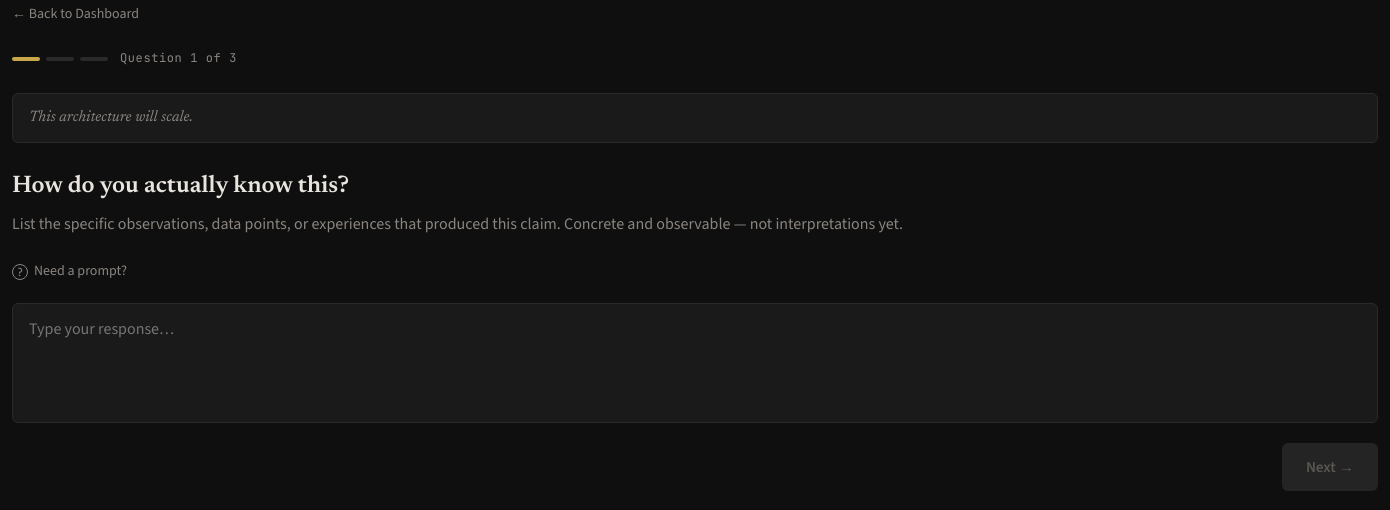
Scenario: PressureTest › "Back" on step 2 returns to step 1 with response preserved
Type "Some evidence." into the text box. click: coordinates (695, 363)
box: [12, 303, 1378, 423]
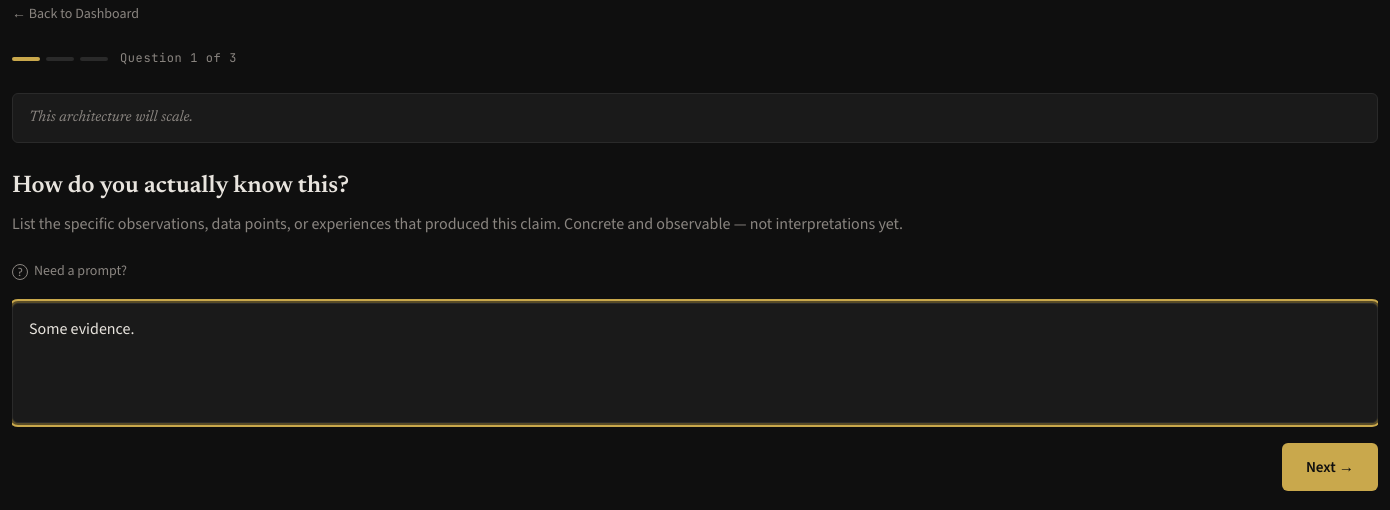
Click the button "Next →". click: coordinates (1330, 467)
box: [1282, 443, 1378, 491]
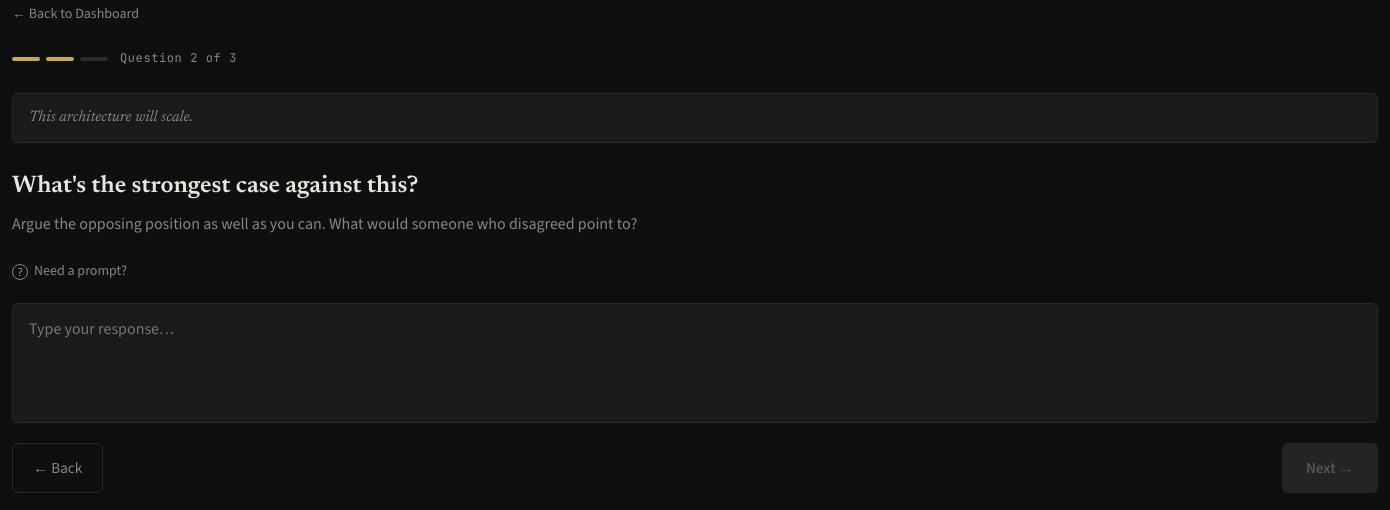
Now the text "Question 2 of 3" is shown, box [120, 49, 237, 69]
Click the button "← Back". click: coordinates (58, 468)
box: [12, 443, 103, 493]
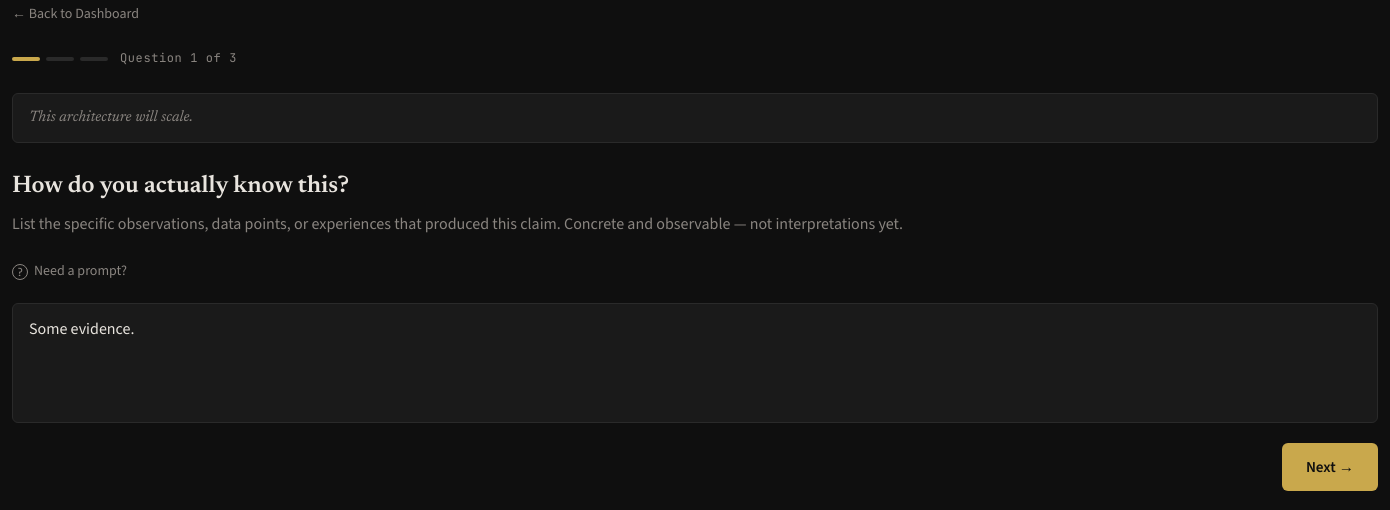
Now the text "Question 1 of 3" is shown, box [120, 49, 237, 69]
